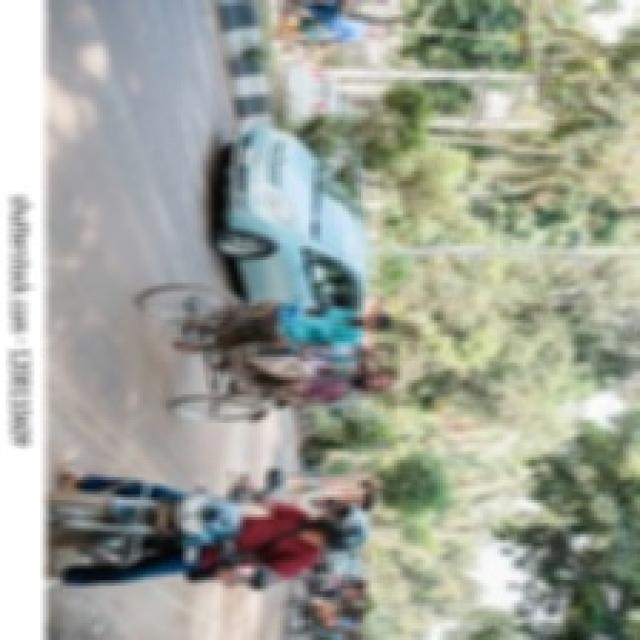bike: (51, 461, 269, 575)
car: (218, 122, 383, 308)
rickshaw: (145, 279, 380, 428), (287, 594, 359, 634)
